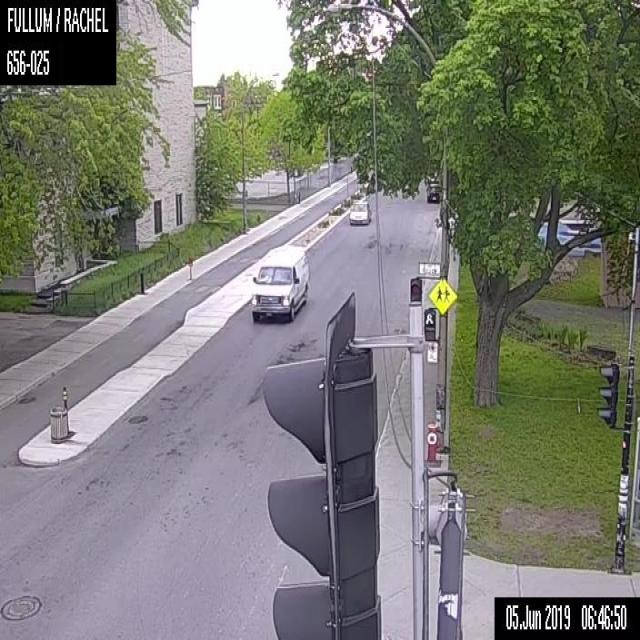vehicle: (251, 245, 309, 323), (348, 200, 371, 223), (426, 183, 442, 202)
